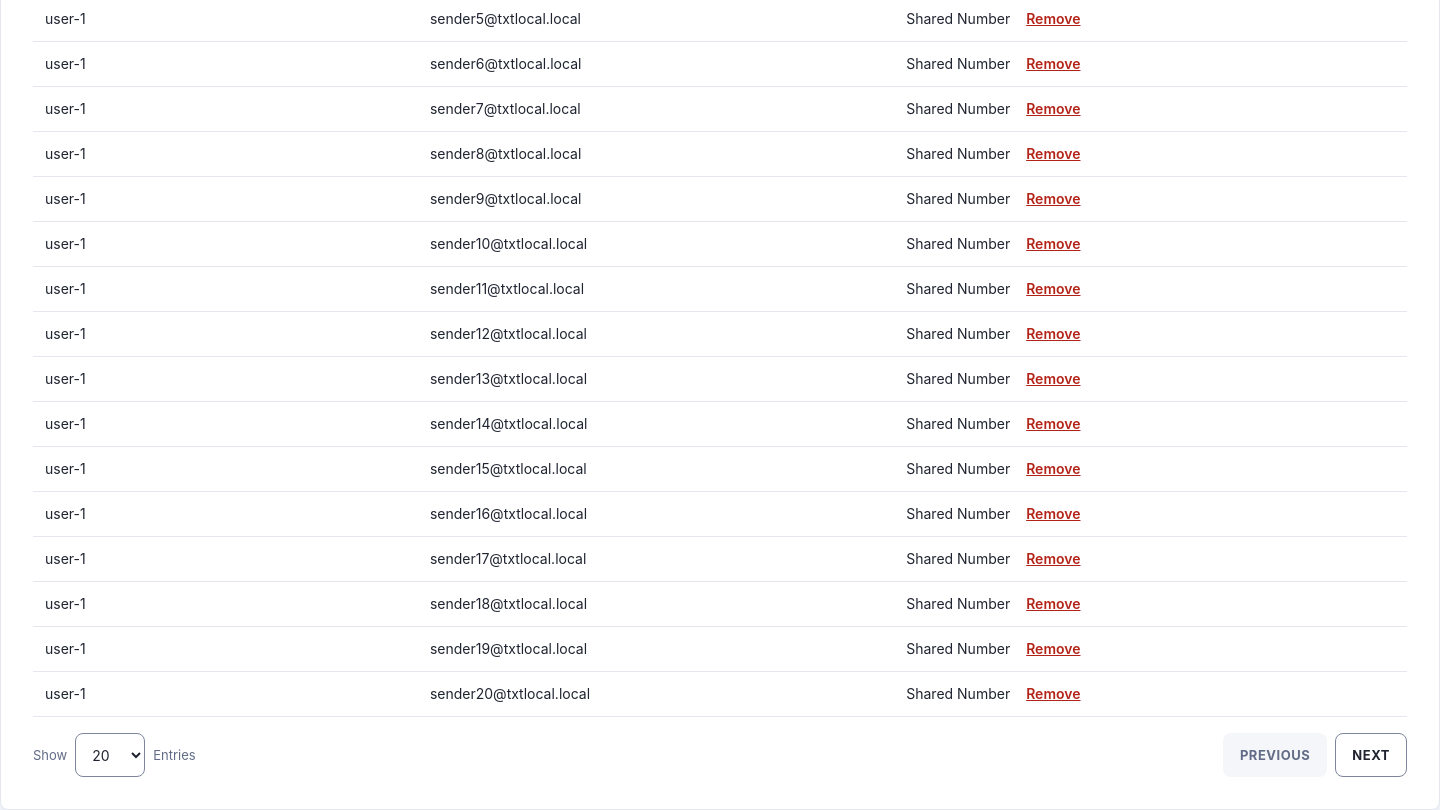
Test: EmailSmsScreen › pages through rows beyond the chosen entries
This screenshot has width=1440, height=810.
(page scrolled)
Expected: the text "sender20@txtlocal.local" is shown, [418,672,894,716]
Expected: the text "sender21@txtlocal.local" is not shown
Click the button "Next" at (1371, 755), box [1335,733,1407,777]
(page scrolled)
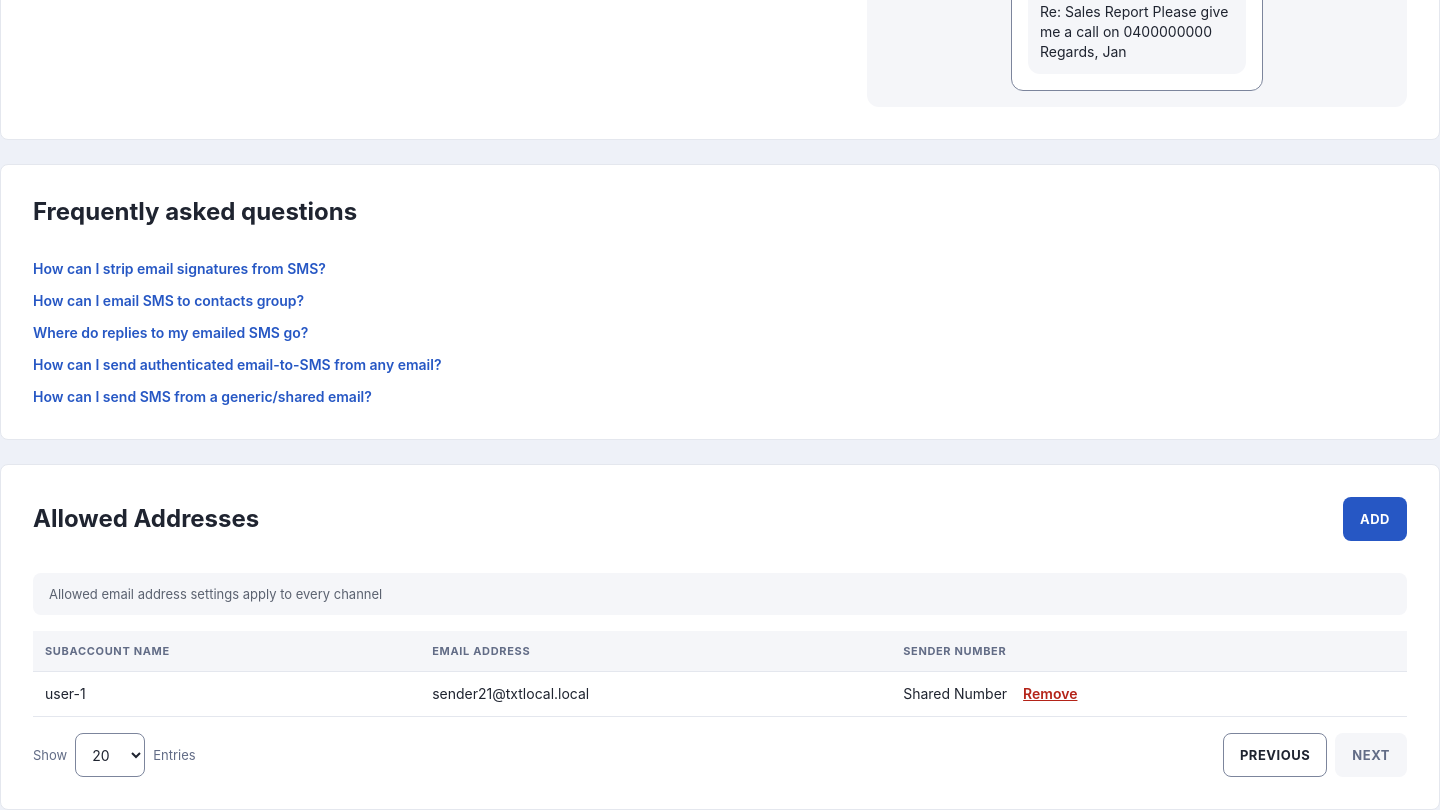
Now the text "sender21@txtlocal.local" is shown, box [420,672,891,716]
Now the text "sender20@txtlocal.local" is gone
